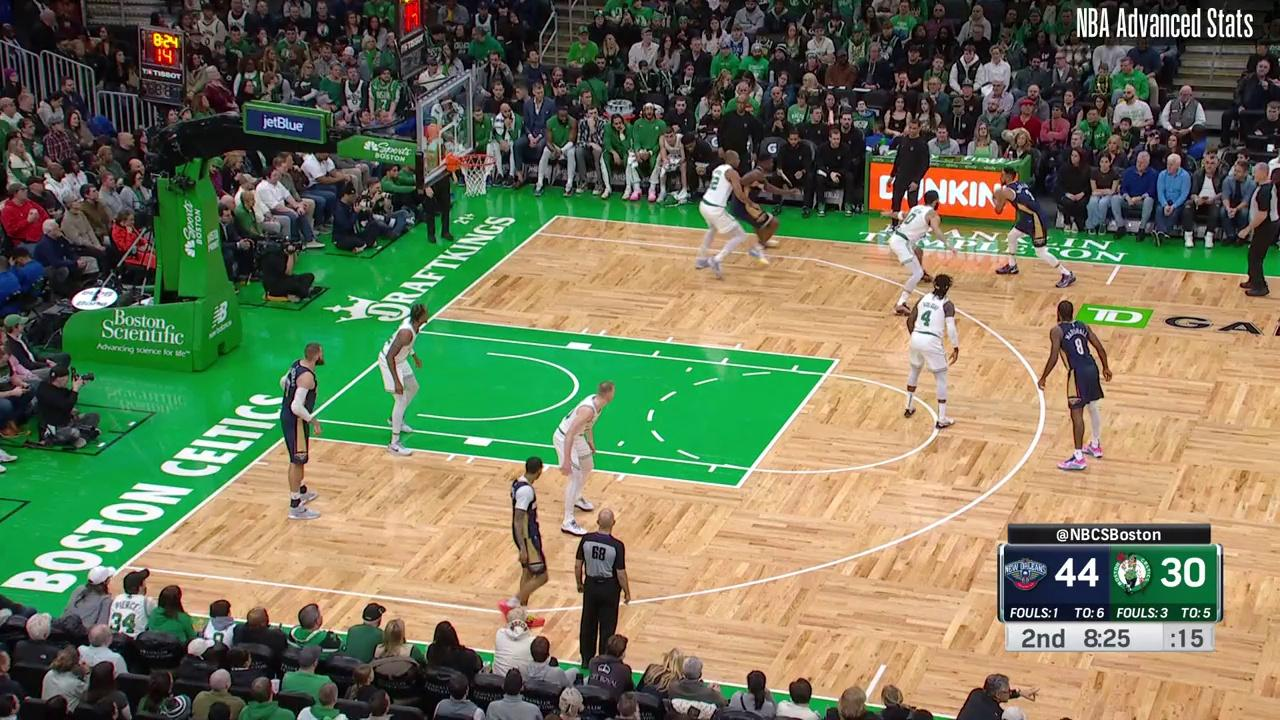3_dx: (532, 229, 541, 236)
3_sx: (118, 561, 131, 572)
b_dx: (552, 212, 561, 221)
free_adx: (832, 355, 843, 365)
free_asx: (733, 481, 744, 491)
free_bdx: (429, 314, 438, 322)
mid_dx: (1103, 280, 1113, 290)
mid_sx: (877, 659, 889, 671)
referee: (571, 509, 633, 665), (1239, 163, 1280, 300)
team: (898, 273, 962, 434), (550, 382, 618, 533), (377, 304, 430, 460), (888, 189, 953, 315), (690, 150, 748, 283)
team1: (1041, 300, 1114, 472), (991, 166, 1077, 289), (282, 338, 329, 523), (499, 454, 546, 629), (735, 154, 787, 270)
timer: (1080, 621, 1134, 652)
